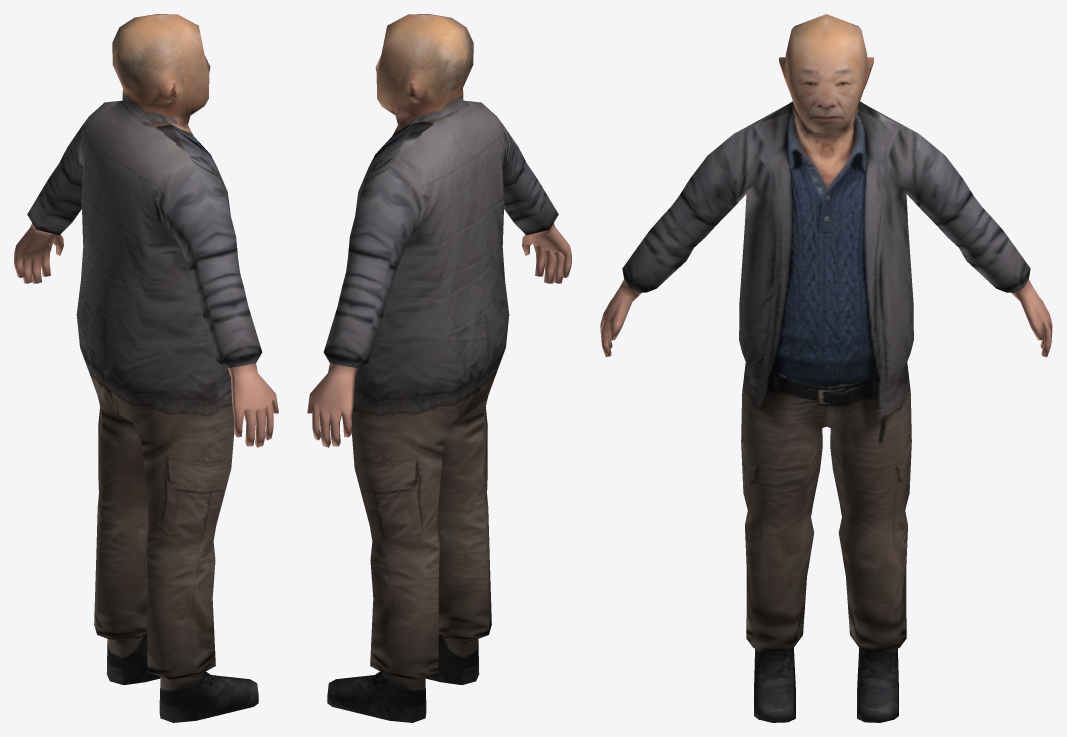
File: Character_Male_33.fbx
3 renders of one model, left to right at view 1: azimuth 30°, elevation 25°; view 2: azimuth 150°, elevation 25°; view 3: azimuth 270°, elevation 25°, orthographic.
Parts seen in each view (by area): view 1: Character_Male_33; view 2: Character_Male_33; view 3: Character_Male_33.
Boxes of the visible parts, x1,y1,x2,y2 form: Character_Male_33: (14,14,278,722); Character_Male_33: (307,14,571,722); Character_Male_33: (600,14,1052,722).
Bounding box in the file's own units: 0.3365 × 1.67 × 1.02.
